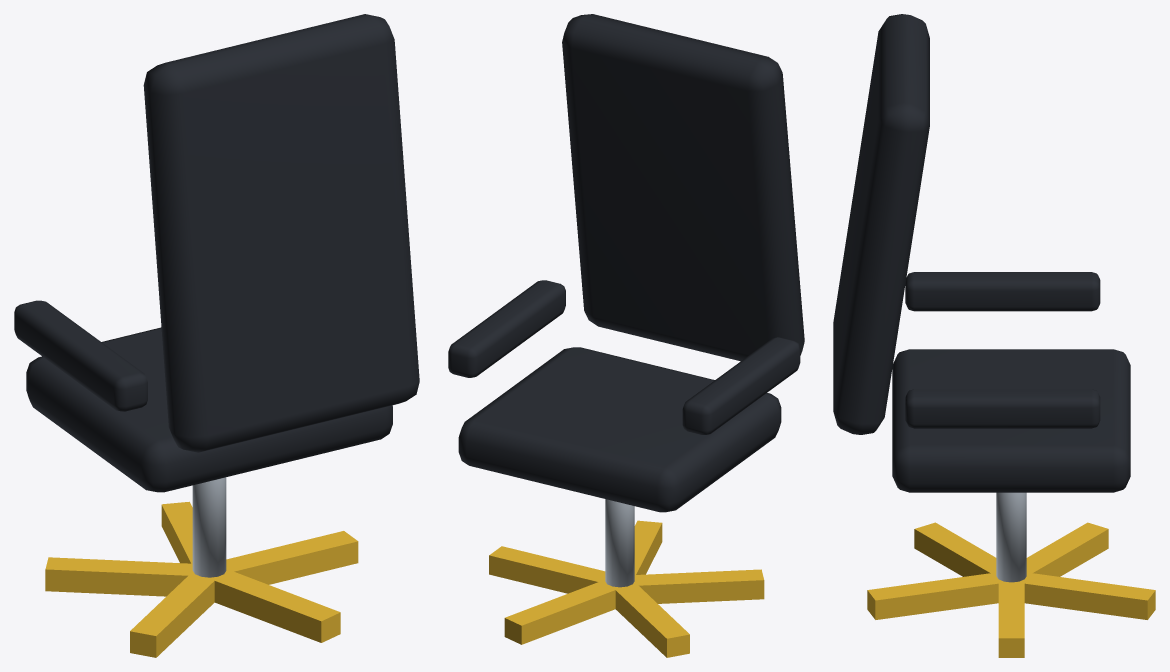
The model's file is ExecutiveChair.fbx.
The picture shows the model from 3 angles, left to right: view 1: azimuth 30°, elevation 25°; view 2: azimuth 150°, elevation 25°; view 3: azimuth 270°, elevation 25°; orthographic projection. The views are drawn at different scales.
Parts seen in each view (by area): view 1: ExecutiveChairBody; view 2: ExecutiveChairBody; view 3: ExecutiveChairBody.
Part boxes in pixels (left/top/right/bottom): ExecutiveChairBody: left=14, top=14, right=419, bottom=657; ExecutiveChairBody: left=448, top=14, right=804, bottom=657; ExecutiveChairBody: left=833, top=14, right=1155, bottom=657.
Size of the model in its own units: 0.72 by 1.37 by 0.7442.
